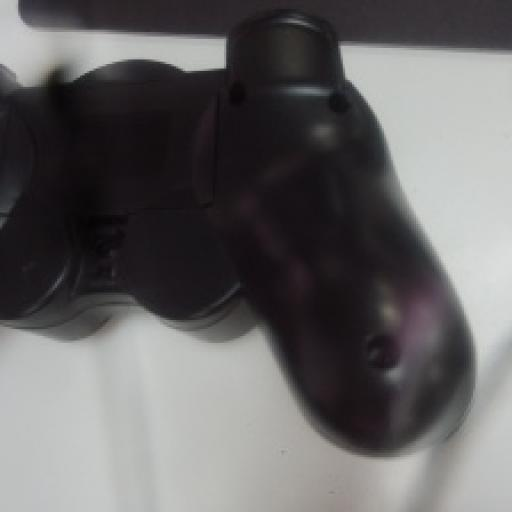game pad: (0, 11, 473, 450)
